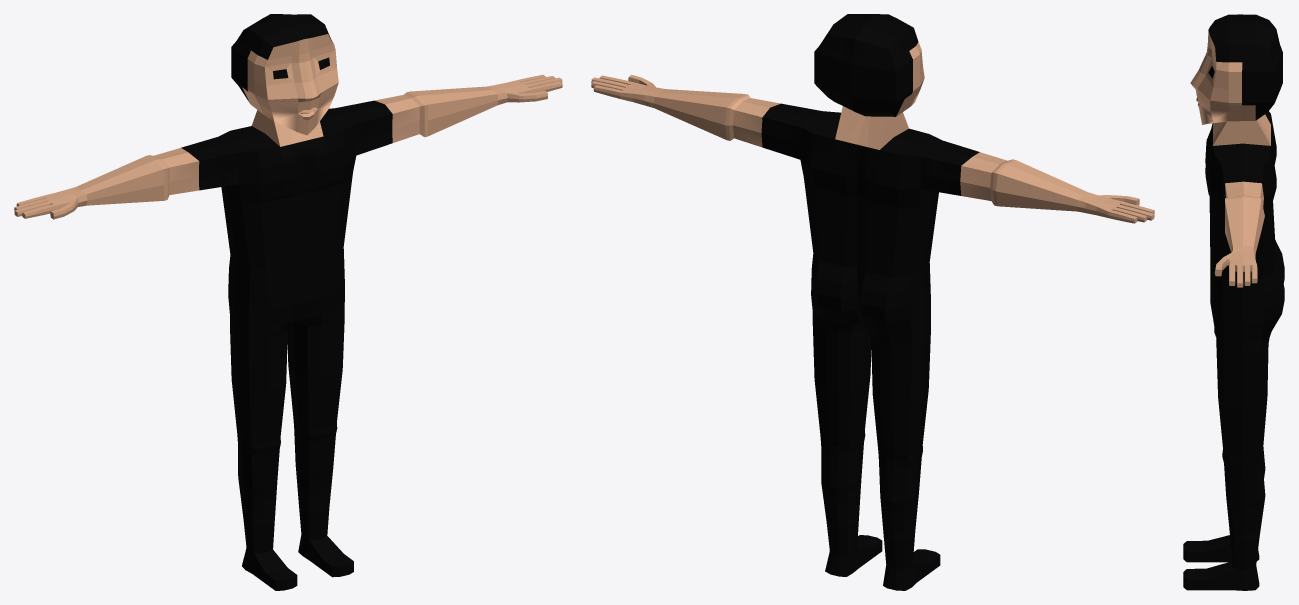
File: Target Dummy.fbx
3 renders of one model, left to right at view 1: azimuth 30°, elevation 25°; view 2: azimuth 150°, elevation 25°; view 3: azimuth 270°, elevation 25°, orthographic. The views are drawn at different scales.
Parts seen in each view (by area): view 1: Target Dummy; view 2: Target Dummy; view 3: Target Dummy.
Part boxes in pixels (x1=…): Target Dummy: x1=14, y1=14, x2=562, y2=590; Target Dummy: x1=591, y1=14, x2=1154, y2=590; Target Dummy: x1=1183, y1=14, x2=1284, y2=590.
Bounding box in the file's own units: 2.02 × 1.92 × 0.3206.
